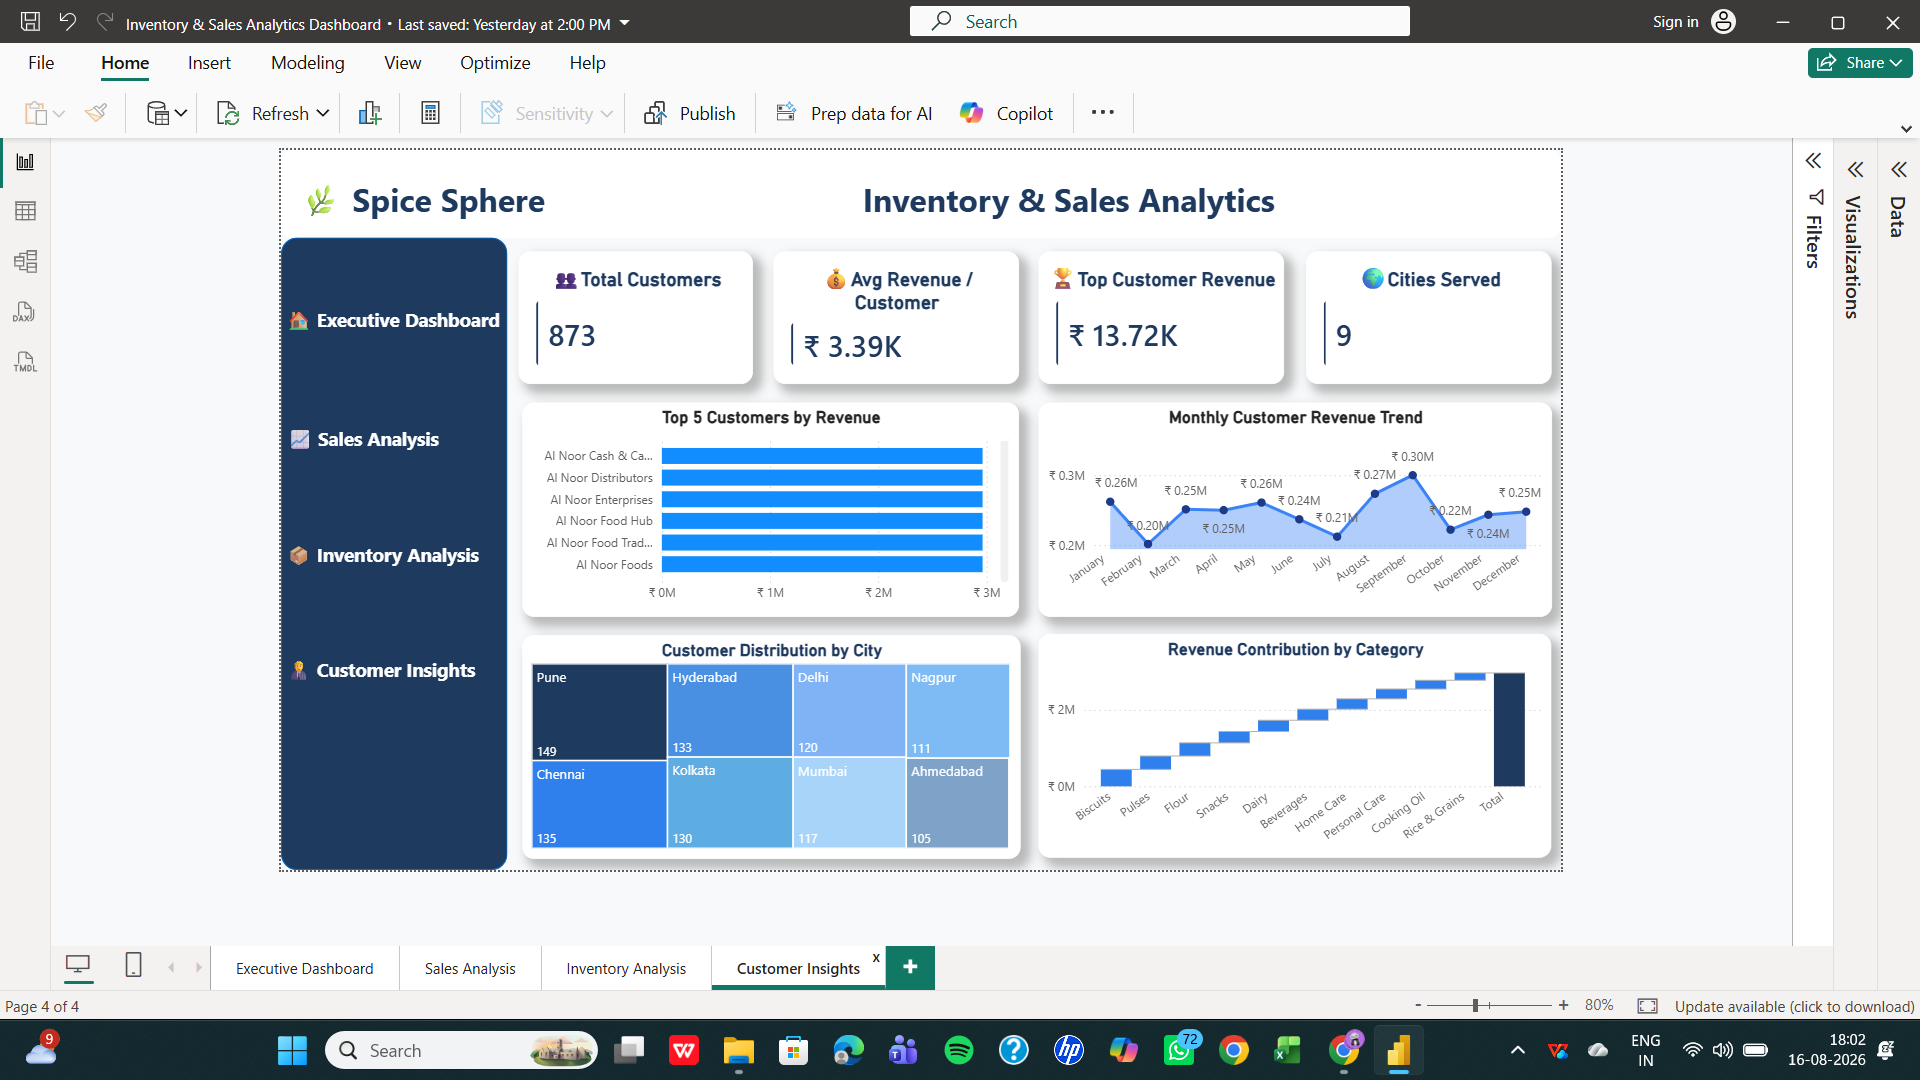

Layout of this report page (visuals, bound fields, positions):
{"tool":"powerbi","page":{"name":"Customer Insights","canvas":[1280,720],"ordinal":3},"visuals":[{"type":"textbox","box":[0,0,1280.3,87.8],"z":0},{"type":"shape","box":[0,87.8,226.4,632.6],"z":1000},{"type":"textbox","box":[0,152.3,247,54.9],"z":2000},{"type":"textbox","box":[1.4,271.2,225,52.1],"z":3000},{"type":"textbox","box":[0,387.4,225,50.8],"z":4000},{"type":"textbox","box":[0,502.2,225,52.1],"z":5000},{"type":"cardVisual","title":"👥Total Customers","fields":{"Data":["Customers.Total Customers"]},"box":[237.4,101.5,234.6,133.1],"z":6000},{"type":"cardVisual","title":"💰Avg Revenue / Customer","fields":{"Data":["Customers.Avg Revenue per Customer"]},"box":[492.6,101.5,245.6,133.1],"z":7000},{"type":"cardVisual","title":"🏆Top Customer Revenue","fields":{"Data":["Customers.Top Customer Revenue"]},"box":[757.5,101.5,245.6,133.1],"z":8000},{"type":"cardVisual","title":"🌍Cities Served","fields":{"Data":["Customers.Cities Served"]},"box":[1025,101.5,245.6,133.1],"z":9000},{"type":"clusteredBarChart","title":"Top 5 Customers by Revenue","fields":{"Y":["Sum(Sales.Revenue)"],"Category":["realistic_customer_names_873.Customer_Name_New"]},"box":[241.5,252.5,496.7,214.1],"z":10000},{"type":"lineChart","title":"Monthly Customer Revenue Trend","fields":{"Y":["Sales.Total Revenue"],"Category":["Sales.Date.Variation.Date Hierarchy.Month"]},"box":[757.5,252.5,513.2,214.1],"z":11000},{"type":"treemap","title":"Customer Distribution by City","fields":{"Group":["Customers.City"],"Values":["Count(Customers.Customer_ID)"]},"box":[241.5,484.4,498.1,223.7],"z":12000},{"type":"waterfallChart","title":"Revenue Contribution by Category","fields":{"Y":["Sales.Total Revenue"],"Category":["Products.Category"]},"box":[757,484,513,224],"z":13000}]}

Visuals, with their boxes on the page's 1280x720 design canvas (x1, y1, x2, y2). These are canvas units, not pixel positions in the 1920x1080 screenshot, which may show the page scaled, cropped or inside an application window:
textbox: (x1=0, y1=0, x2=1280, y2=88)
shape: (x1=0, y1=88, x2=226, y2=720)
textbox: (x1=0, y1=152, x2=247, y2=207)
textbox: (x1=1, y1=271, x2=226, y2=323)
textbox: (x1=0, y1=387, x2=225, y2=438)
textbox: (x1=0, y1=502, x2=225, y2=554)
"👥Total Customers" cardVisual: (x1=237, y1=102, x2=472, y2=235)
"💰Avg Revenue / Customer" cardVisual: (x1=493, y1=102, x2=738, y2=235)
"🏆Top Customer Revenue" cardVisual: (x1=758, y1=102, x2=1003, y2=235)
"🌍Cities Served" cardVisual: (x1=1025, y1=102, x2=1271, y2=235)
"Top 5 Customers by Revenue" clusteredBarChart: (x1=242, y1=252, x2=738, y2=467)
"Monthly Customer Revenue Trend" lineChart: (x1=758, y1=252, x2=1271, y2=467)
"Customer Distribution by City" treemap: (x1=242, y1=484, x2=740, y2=708)
"Revenue Contribution by Category" waterfallChart: (x1=757, y1=484, x2=1270, y2=708)
